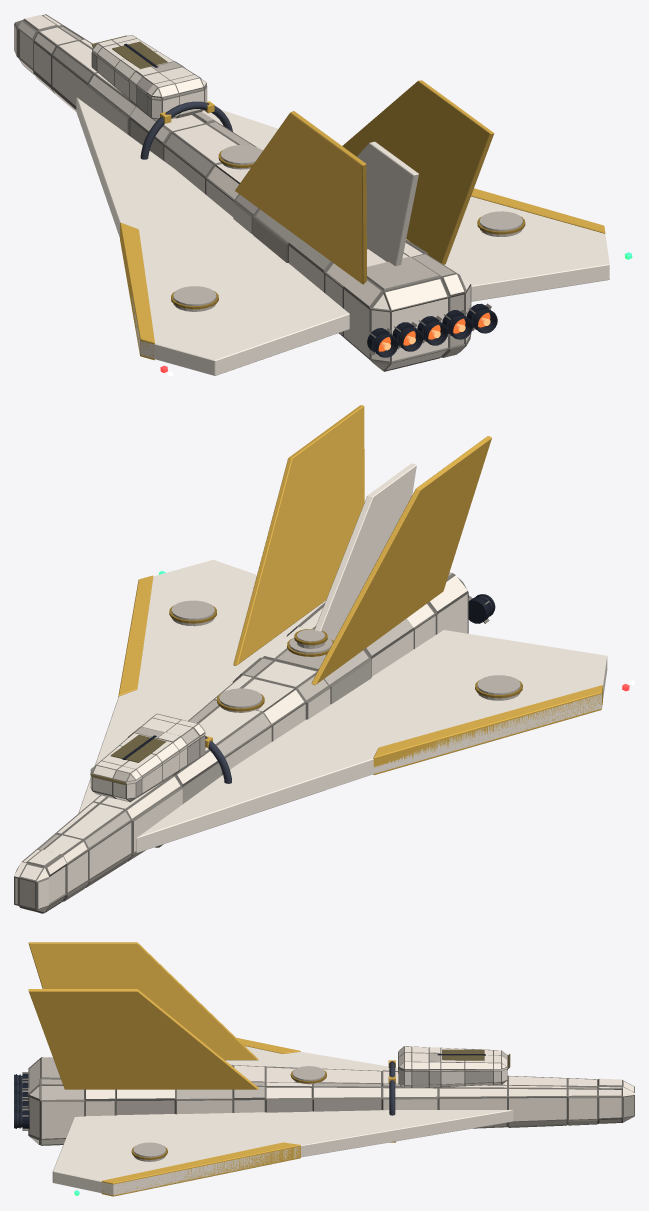
The model's file is paragon.glb.
The picture shows the model from 3 angles, top to bottom: view 1: azimuth 30°, elevation 25°; view 2: azimuth 150°, elevation 25°; view 3: azimuth 270°, elevation 25°; orthographic projection. The views are drawn at different scales.
Parts seen in each view (by area): view 1: paragon_mesh; view 2: paragon_mesh; view 3: paragon_mesh.
Part boxes in pixels (x1=…): paragon_mesh: x1=14, y1=14, x2=632, y2=375; paragon_mesh: x1=14, y1=405, x2=629, y2=913; paragon_mesh: x1=14, y1=942, x2=634, y2=1196.
Size of the model in its own units: 30.43 by 14.09 by 46.07.
